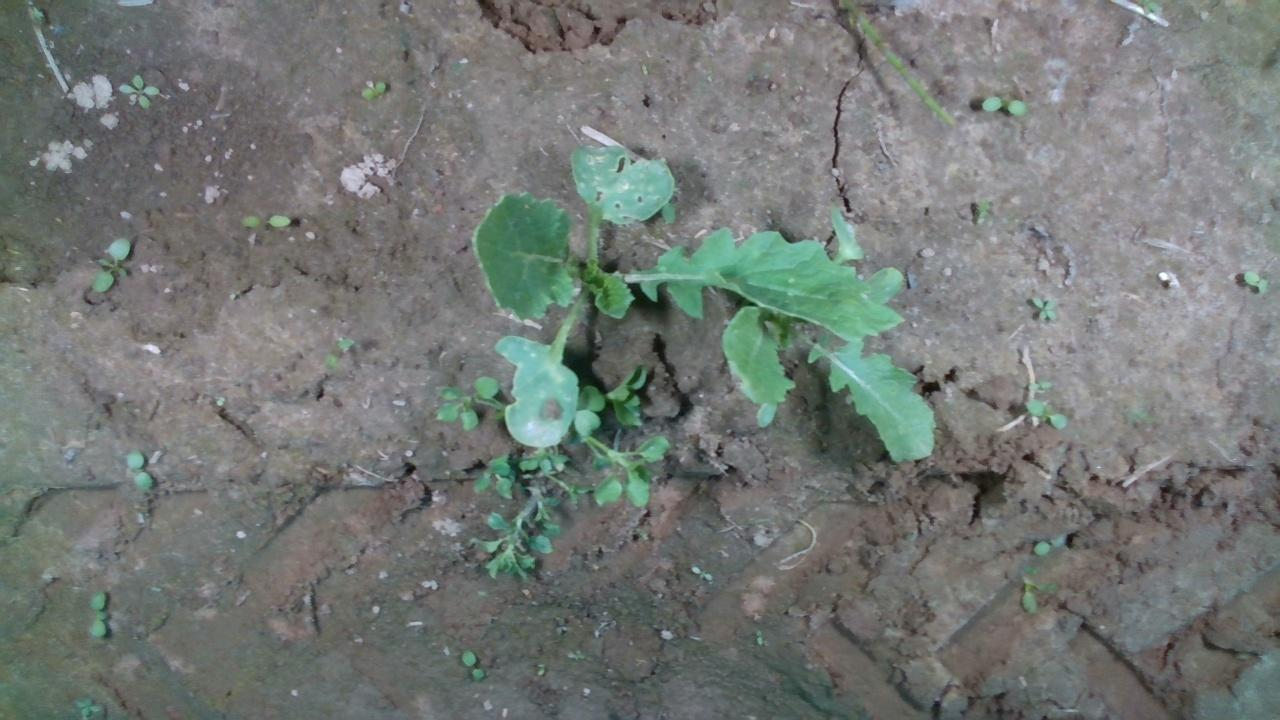weed: (87, 235, 131, 293), (115, 71, 161, 107), (1024, 395, 1069, 430), (123, 447, 153, 492), (980, 92, 1027, 117), (87, 584, 107, 639), (1031, 530, 1067, 556), (236, 212, 291, 228), (1029, 294, 1059, 322), (459, 648, 483, 682), (1240, 269, 1270, 293), (358, 77, 387, 101), (1024, 378, 1052, 390)
